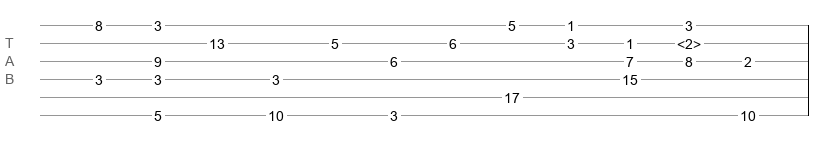1: (567, 18, 575, 28), (626, 36, 634, 46)
10: (268, 108, 284, 118), (740, 108, 756, 118)
13: (209, 36, 225, 46)
15: (622, 72, 638, 82)
17: (504, 90, 520, 100)
2: (744, 54, 752, 64)
3: (95, 72, 103, 82), (154, 72, 162, 82), (154, 18, 162, 28), (272, 72, 280, 82), (390, 108, 398, 118), (567, 36, 575, 46), (685, 18, 693, 28)
5: (154, 108, 162, 118), (331, 36, 339, 46), (508, 18, 516, 28)
6: (390, 54, 398, 64), (449, 36, 457, 46)
7: (626, 54, 634, 64)
8: (95, 18, 103, 28), (685, 54, 693, 64)
9: (154, 54, 162, 64)
harmonic: (677, 36, 701, 46)
